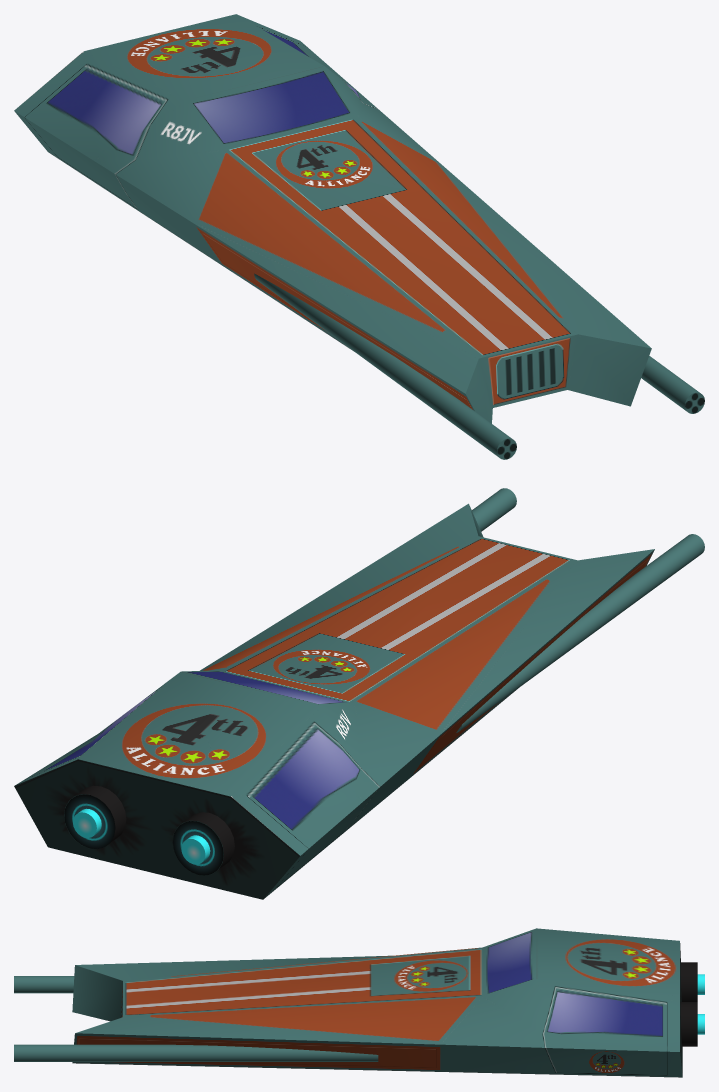
File: AllyFighter.obj
The picture shows the model from 3 angles, top to bottom: view 1: azimuth 30°, elevation 25°; view 2: azimuth 150°, elevation 25°; view 3: azimuth 270°, elevation 25°; orthographic projection. The views are drawn at different scales.
Visible parts, largest first — view 1: AllyFighter:polySurface3; view 2: AllyFighter:polySurface3; view 3: AllyFighter:polySurface3.
Boxes of the visible parts, box(x1,y1,x2,y2) form: AllyFighter:polySurface3: box(14, 14, 704, 459); AllyFighter:polySurface3: box(14, 488, 704, 899); AllyFighter:polySurface3: box(14, 928, 704, 1077).
Bounding box in the file's own units: 3.83 × 1.45 × 10.66.
Materials: 1 (1 with a texture image).
